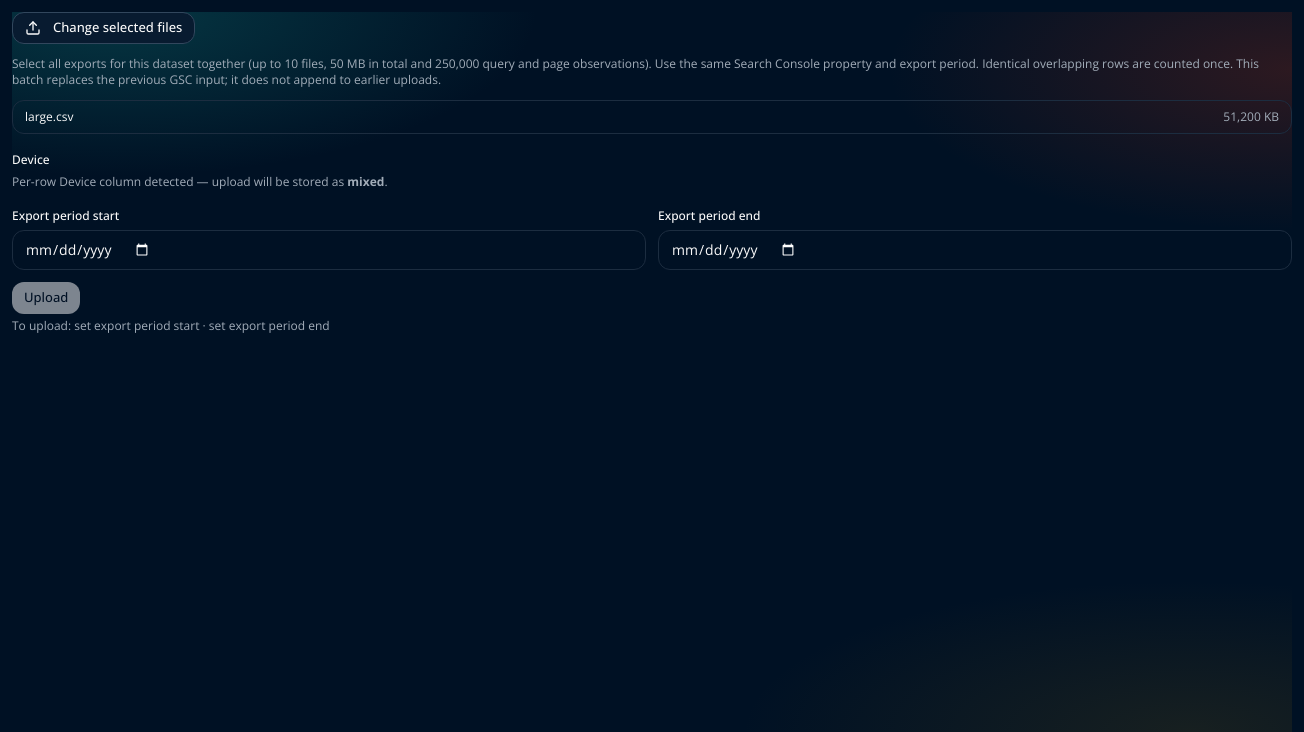
GSC upload selection › explains HTTP 413 even when a proxy supplies no structured error
The image size is (1304, 732).
Earlier steps of the test are not shown.
Expected: the text "large.csv" is shown, [25,109,74,125]
Type "2025-09-01" into the date field labelled "Export period start" at (329, 250), box [12,230,646,270]
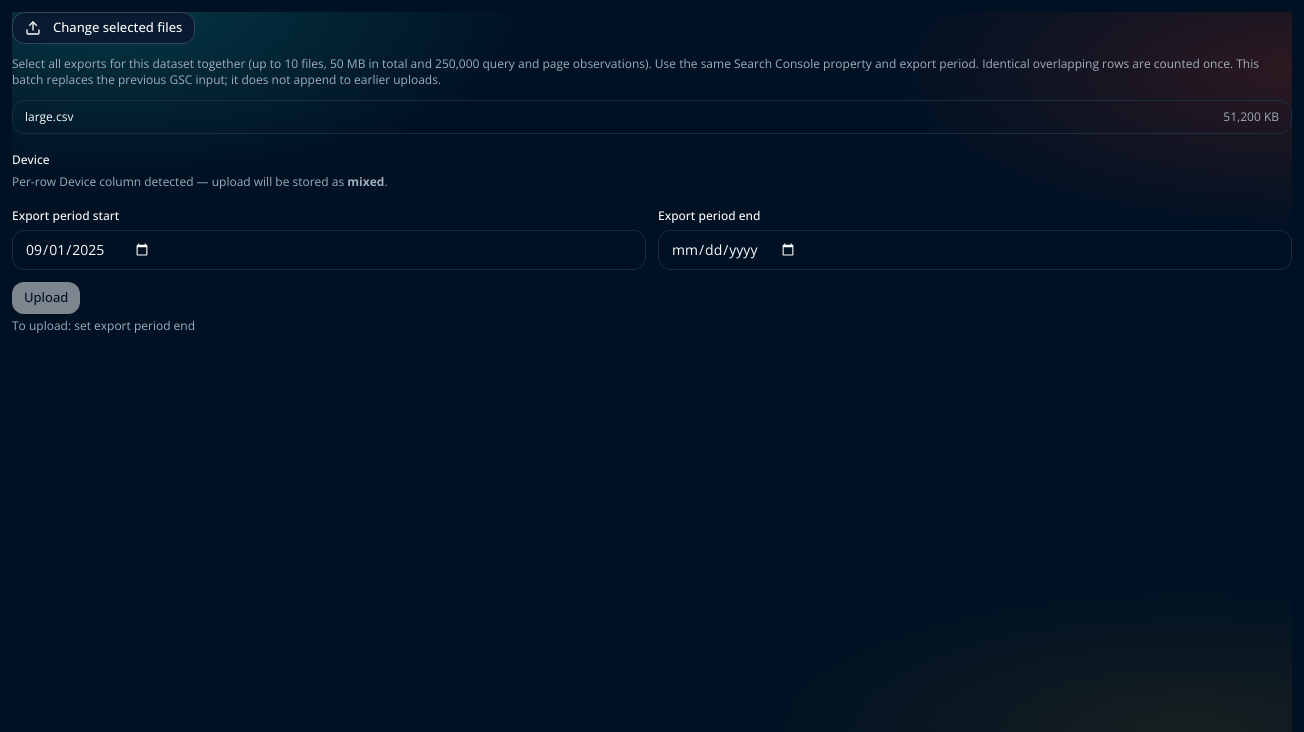
Type "2026-08-31" into the date field labelled "Export period end" at (975, 250), box [658,230,1292,270]
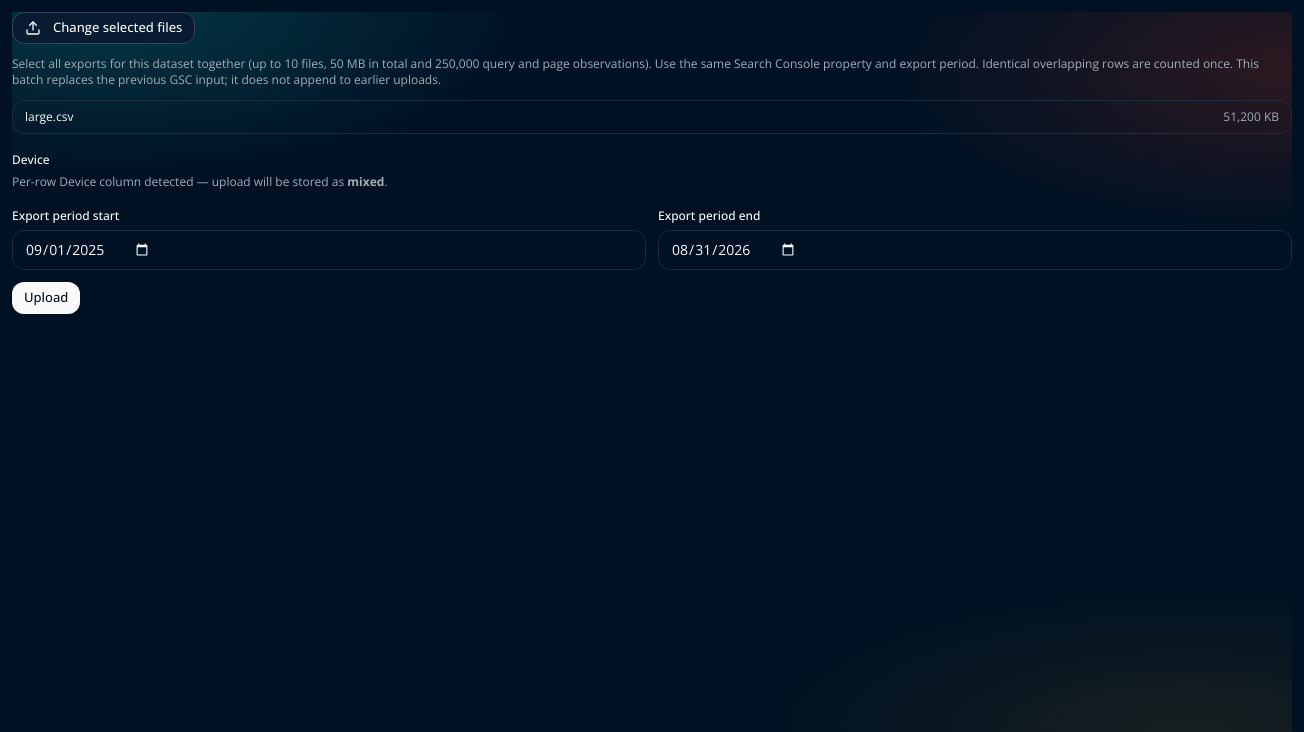
Expected: the button "Upload" is enabled
Click the button "Upload" at (46, 298), box [12,282,80,314]
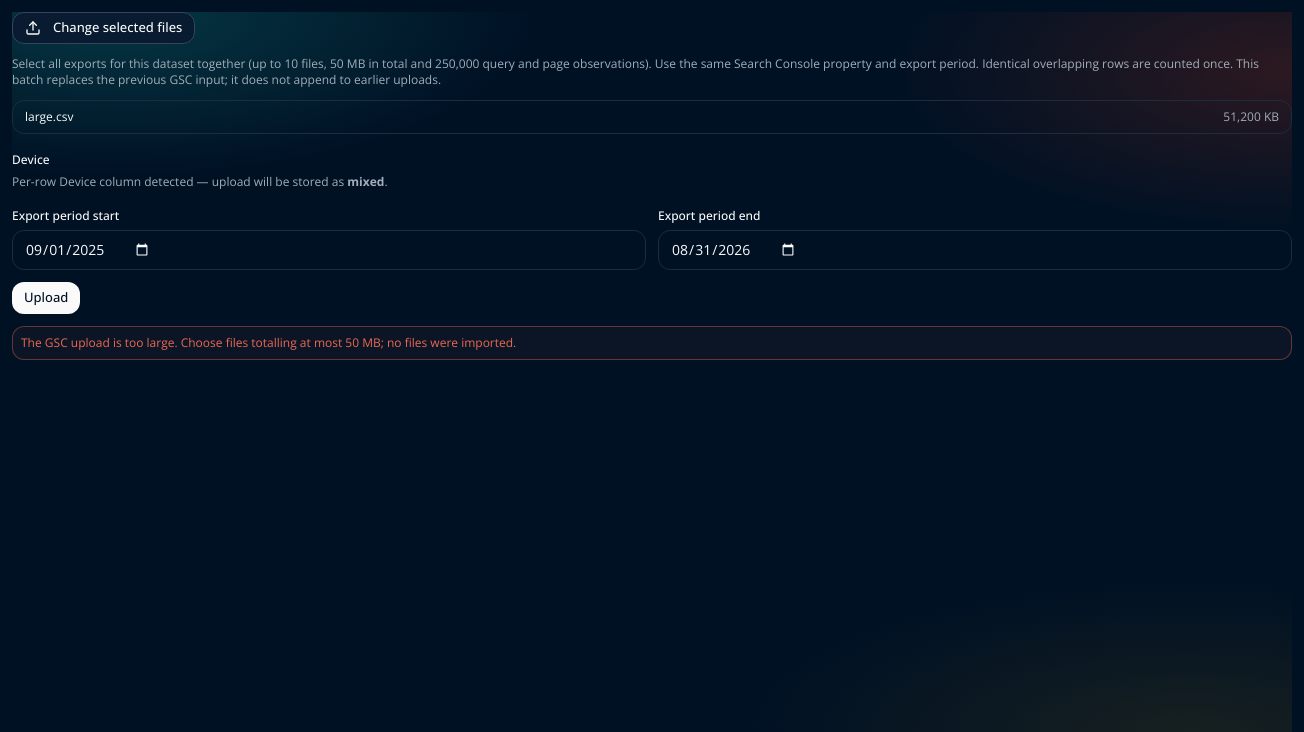
Expected: the text "The GSC upload is too large. Choose files totalling at most 50 MB; no files were imported." is shown, [21,334,516,351]
